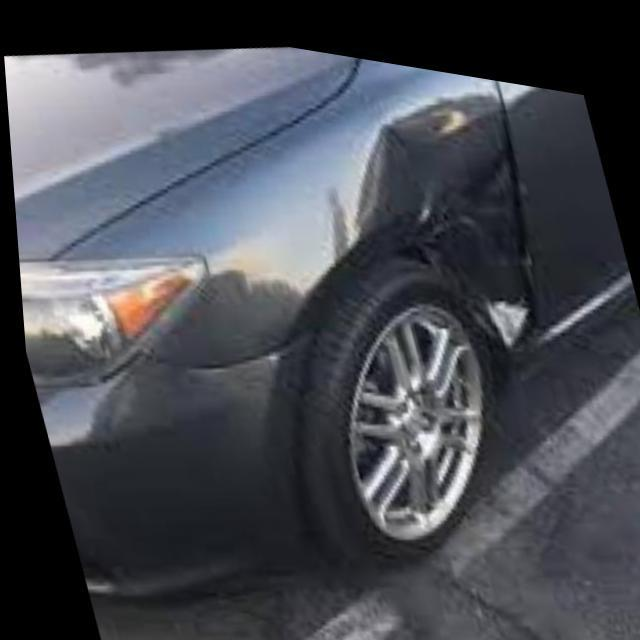dent: (352, 86, 534, 330)
